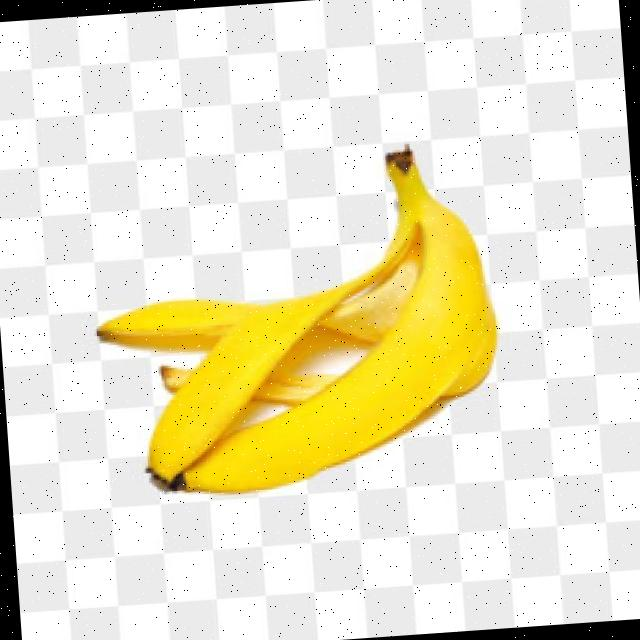banana-peel: (84, 137, 508, 502)
